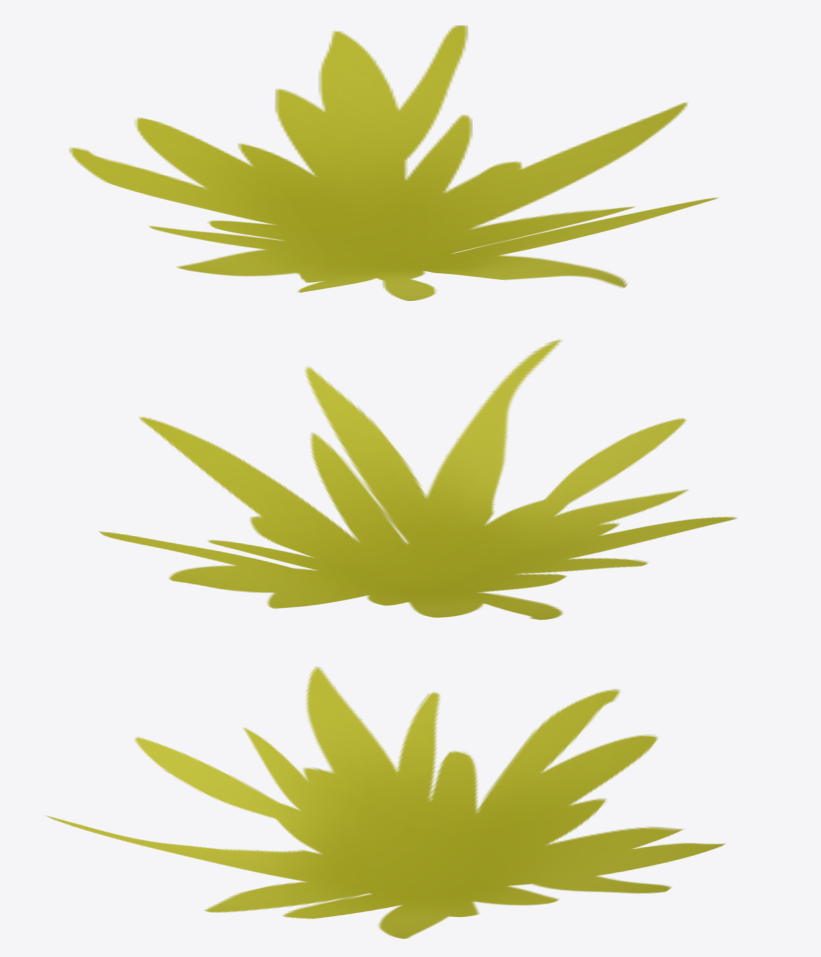
Rendered from weed_big.glb.
3 renders of one model, top to bottom at view 1: azimuth 30°, elevation 25°; view 2: azimuth 150°, elevation 25°; view 3: azimuth 270°, elevation 25°, orthographic.
Visible parts, largest first — view 1: grass 1_leaf and grass_0; view 2: grass 1_leaf and grass_0; view 3: grass 1_leaf and grass_0.
Boxes of the visible parts, x1=… form: grass 1_leaf and grass_0: x1=69, y1=25, x2=717, y2=300; grass 1_leaf and grass_0: x1=99, y1=339, x2=736, y2=619; grass 1_leaf and grass_0: x1=45, y1=666, x2=724, y2=938.
Size of the model in its own units: 0.4032 by 0.0639 by 0.4656.
1 material, 1 textured.
